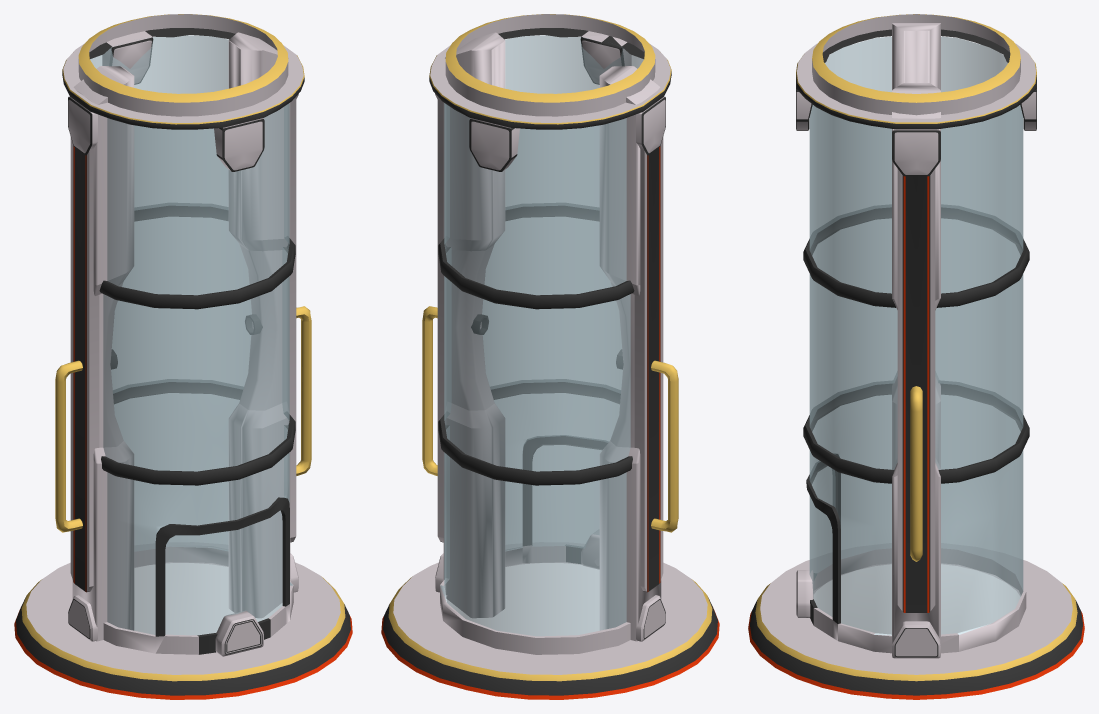
Rendered from NukeTubeTest.fbx.
3 views of the same model, side by side, from view 1: azimuth 30°, elevation 25°; view 2: azimuth 150°, elevation 25°; view 3: azimuth 270°, elevation 25° (orthographic).
Visible parts, largest first — view 1: NukeTube, Bar; view 2: NukeTube, Bar; view 3: NukeTube, Bar.
Boxes of the visible parts, x1,y1,x2,y2 form: NukeTube: [14, 14, 352, 699]; Bar: [72, 32, 290, 641]; NukeTube: [381, 14, 719, 699]; Bar: [443, 32, 661, 641]; NukeTube: [748, 14, 1084, 699]; Bar: [892, 23, 940, 641].
Size of the model in its own units: 590 by 1103 by 586.
